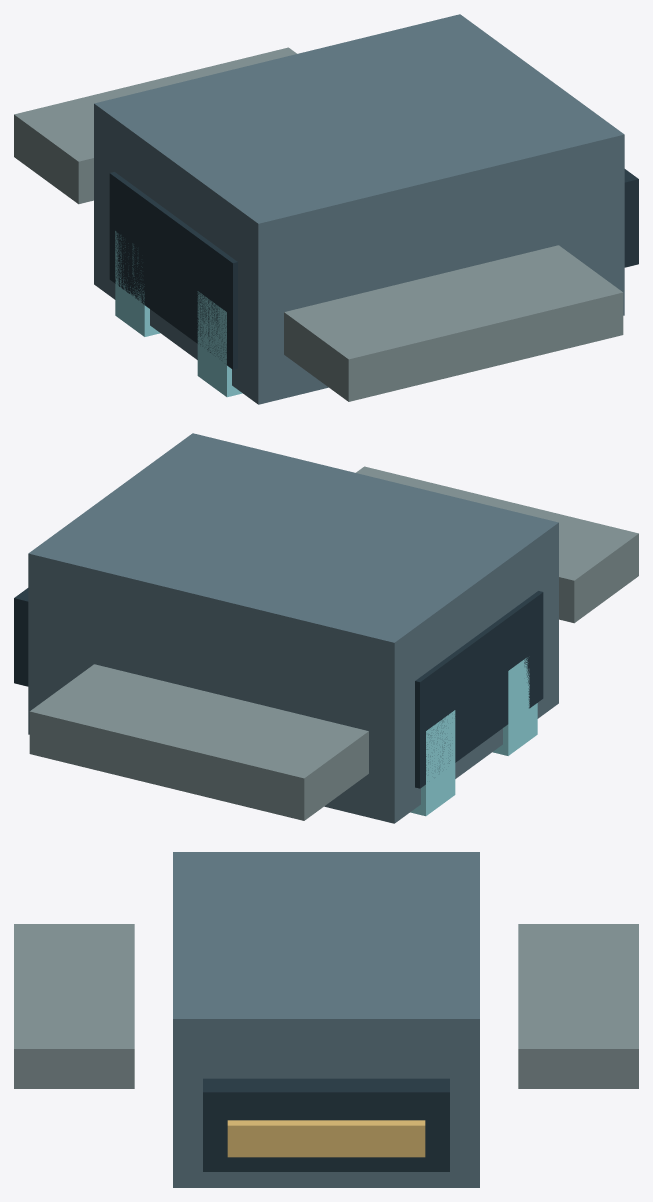
Rendered from sentry-drone.glb.
3 views of the same model, one above another, from view 1: azimuth 30°, elevation 25°; view 2: azimuth 150°, elevation 25°; view 3: azimuth 270°, elevation 25° (orthographic). The views are drawn at different scales.
Visible parts, largest first — view 1: FloatingHull, Stabilizers, Thruster, ThrusterGlow, OpticHousing; view 2: FloatingHull, Stabilizers, Thruster, ThrusterGlow, OpticHousing; view 3: FloatingHull, Stabilizers, OpticHousing, OpticLens.
Part boxes in pixels (x1,y1,x2,y2): FloatingHull: (94,14,624,404); Stabilizers: (14,47,623,401); Thruster: (109,172,237,369); ThrusterGlow: (115,231,242,397); OpticHousing: (624,169,638,267); FloatingHull: (28,433,558,823); Stabilizers: (29,466,638,820); Thruster: (415,591,543,788); ThrusterGlow: (410,657,537,816); OpticHousing: (14,588,28,686); FloatingHull: (173,852,479,1187); Stabilizers: (14,924,638,1088); OpticHousing: (203,1078,449,1171); OpticLens: (227,1120,425,1157).
Bounding box in the file's own units: 4.06 × 1.8 × 5.7.
